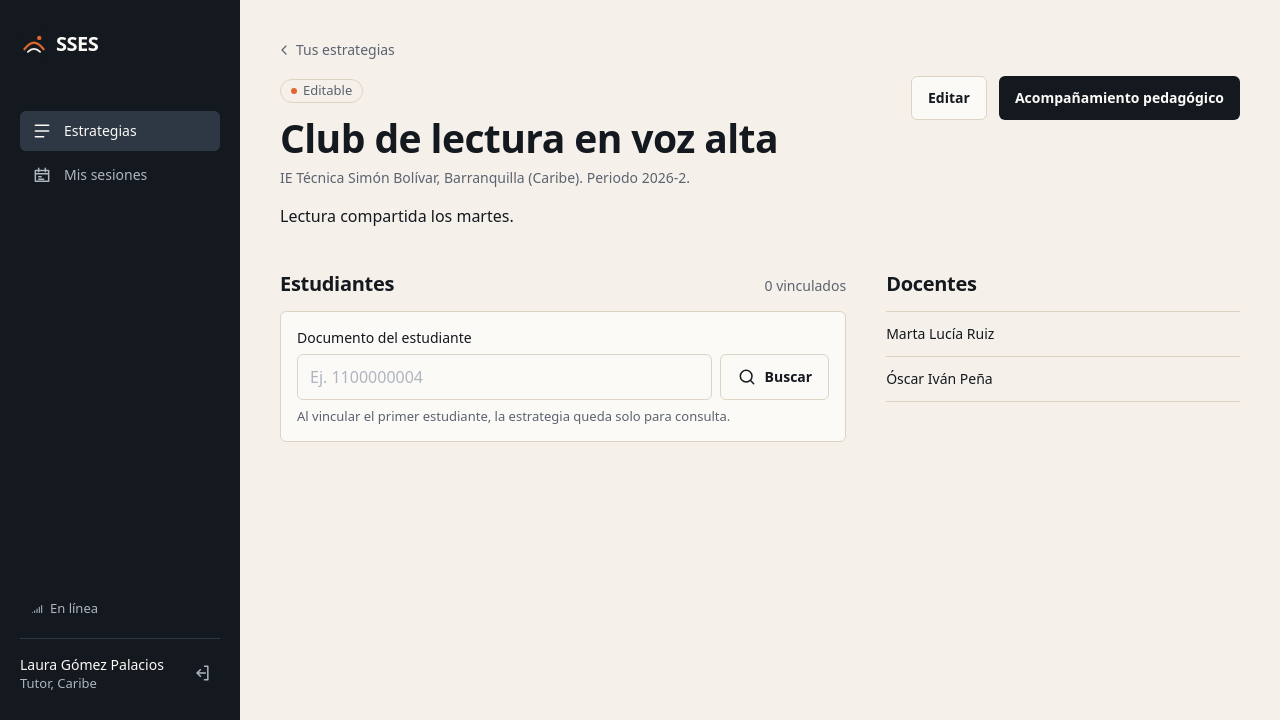
Test: Detalle de la estrategia › busca un estudiante por documento y lo vincula; la estrategia queda solo para consulta
Type "1100000001" into the field labelled "Documento del estudiante" at (504, 377), box 297,354 -> 712,400
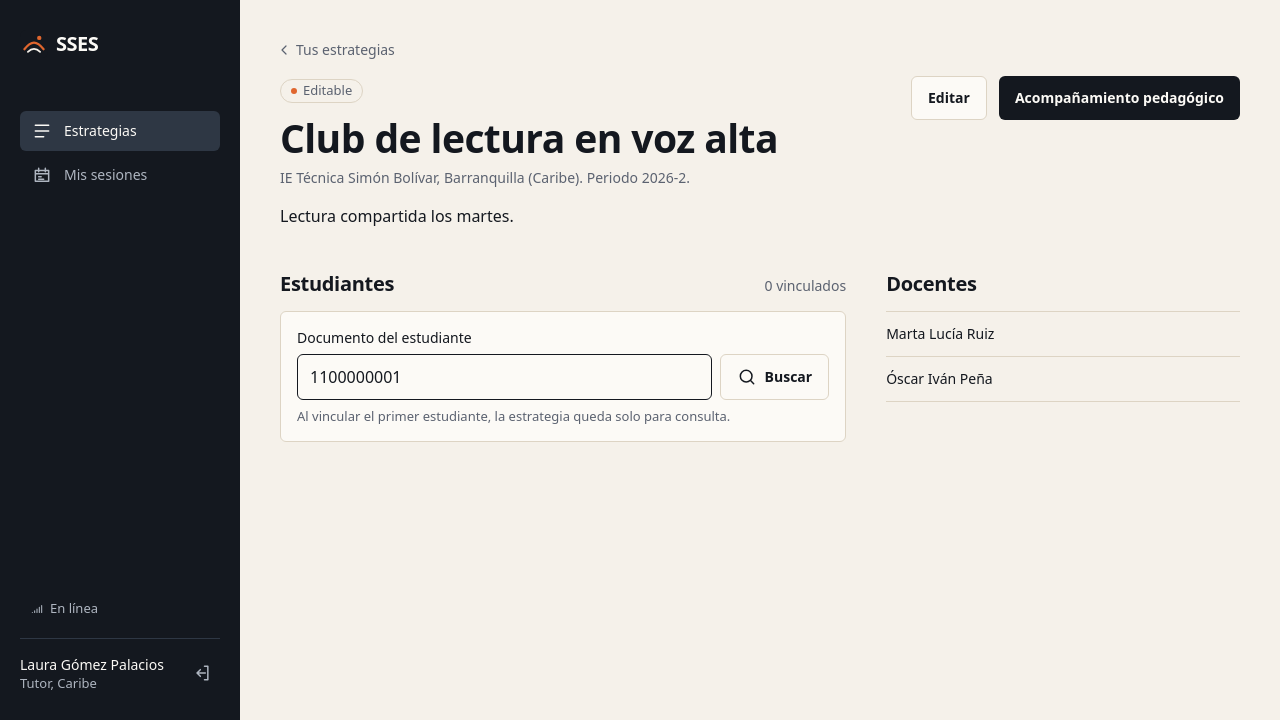
Click the button "Buscar" at (774, 377), box 720,354 -> 829,400
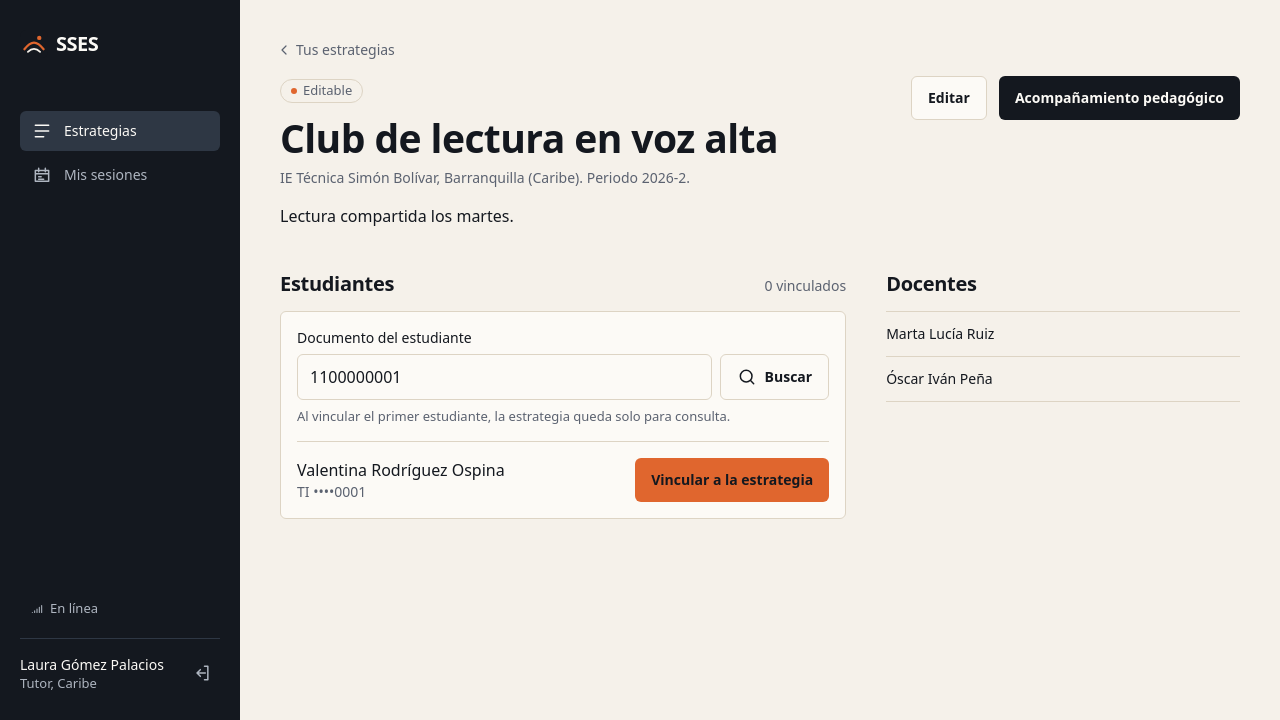
Click the button "Vincular a la estrategia" at (732, 480), box 635,458 -> 829,502
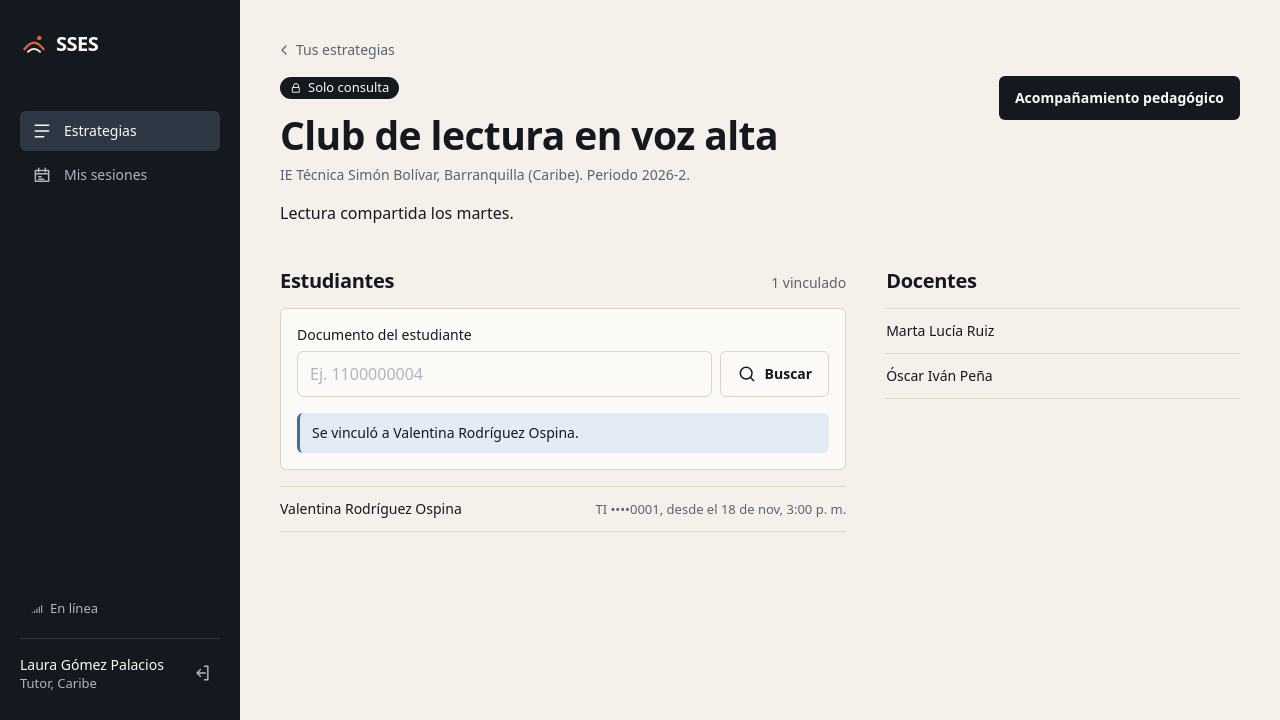
Expected: the text "1100000001" is not shown
Expected: the text "TI ••••0001" is shown, 595,500 -> 660,518
Expected: the text "Solo consulta" is shown, 280,77 -> 399,99
